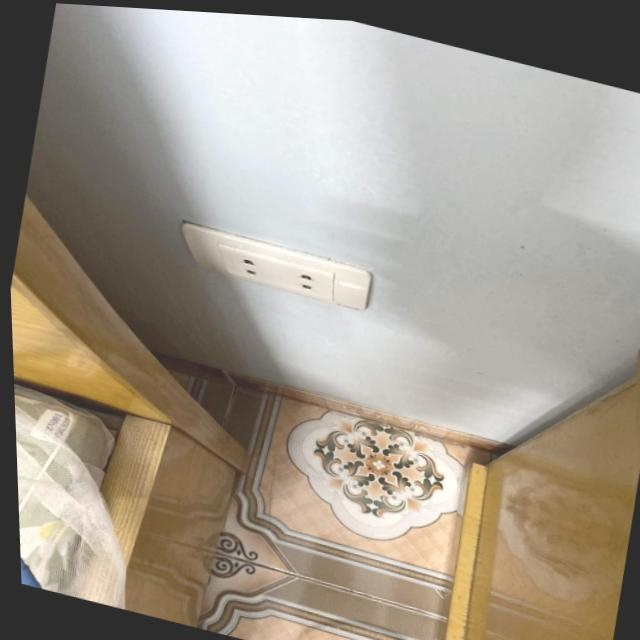outlet: (173, 220, 375, 314)
